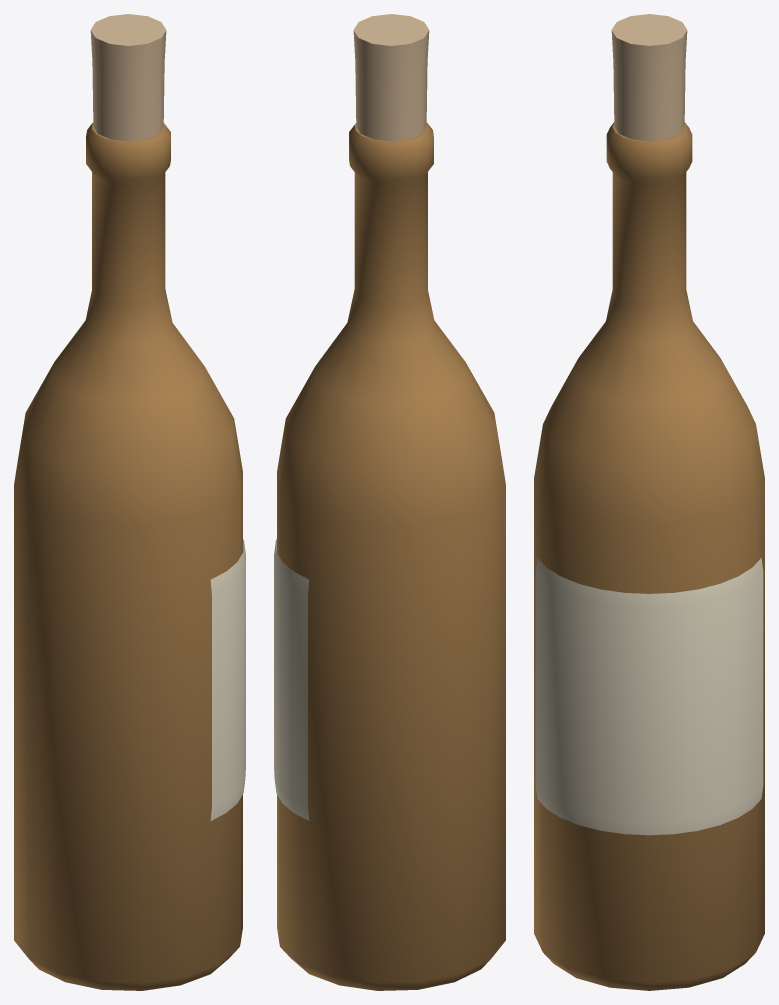
The model's file is bottle.glb.
The picture shows the model from 3 angles, left to right: view 1: azimuth 30°, elevation 25°; view 2: azimuth 150°, elevation 25°; view 3: azimuth 270°, elevation 25°; orthographic projection.
Parts seen in each view (by area): view 1: glass, seal, label; view 2: glass, seal, label; view 3: glass, label, seal.
Part boxes in pixels (left/top/right/bottom): glass: left=14, top=122, right=242, bottom=990; seal: left=90, top=14, right=166, bottom=141; label: left=210, top=539, right=245, bottom=820; glass: left=277, top=122, right=505, bottom=990; seal: left=353, top=14, right=429, bottom=141; label: left=274, top=539, right=309, bottom=820; glass: left=534, top=122, right=764, bottom=990; label: left=535, top=558, right=763, bottom=835; seal: left=611, top=14, right=687, bottom=141.
Bounding box in the file's own units: 0.0788 × 0.342 × 0.078.
